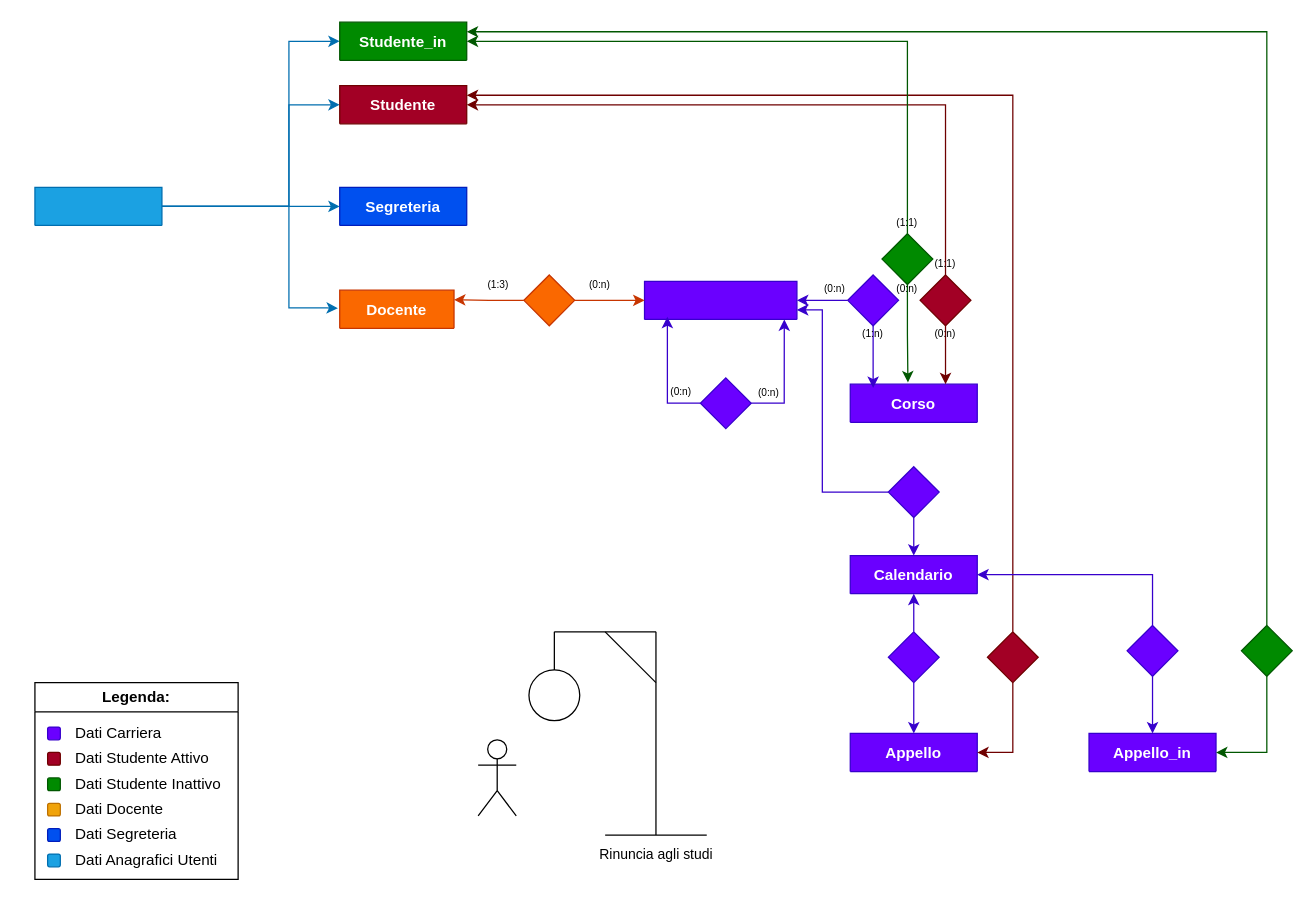
The diagram is 1314 pixels wide and 902 high, and some of its shapes have lost their labels. Each missing label, with the centre of its shape:
"Anagrafica" goes at point (98, 205).
"Insegnamenti" goes at point (720, 299).
"LET'S GO" goes at point (554, 695).
"ME" goes at point (496, 777).
